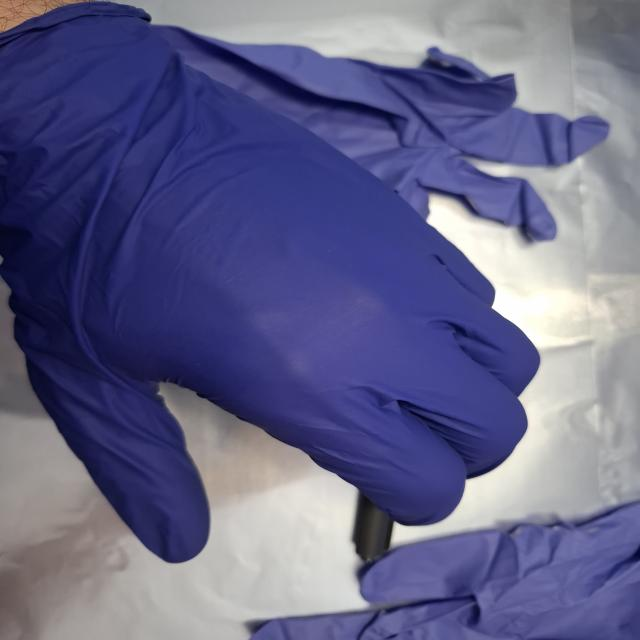glove_on: (0, 4, 546, 570)
